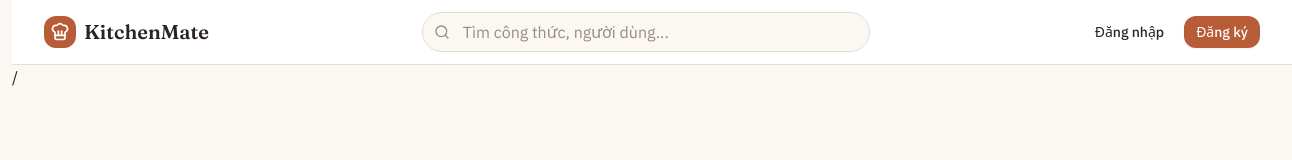
Test: Header › submits desktop search to global Explore results
Type "bep nha" into the search field with placeholder "Tìm công thức, người dùng..." at (646, 32), box [422,12,870,52]
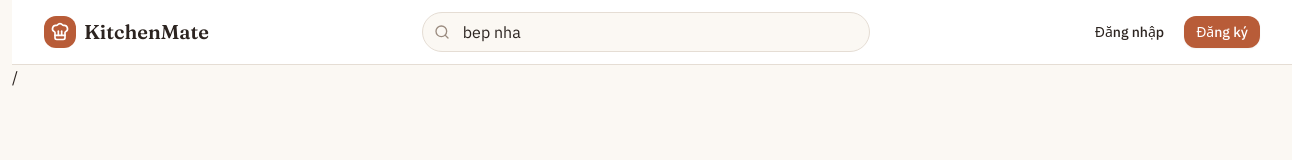
Submit the form with placeholder "Tìm công thức, người dùng...", box [422,12,870,52]
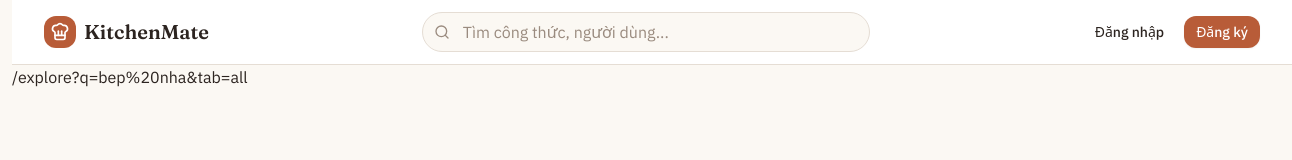
Now the text with test id "location" reads "/explore?q=bep%20nha&tab=all", box [12,67,248,87]
